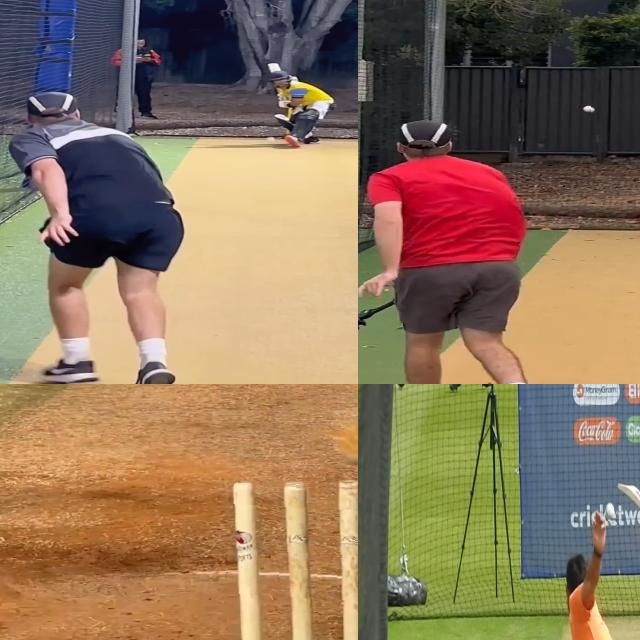Cricket ball: (606, 498, 618, 524), (581, 105, 597, 113), (266, 136, 275, 142)
Stumps: (227, 481, 358, 640)
